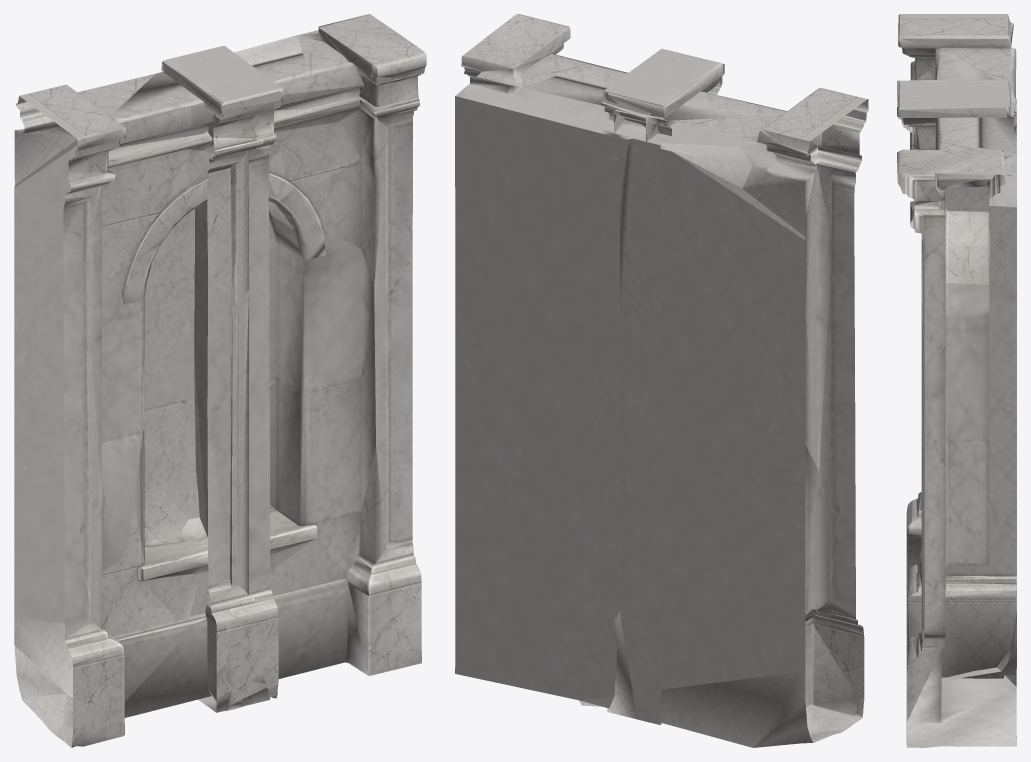
Rendered from marble-wall.glb.
The picture shows the model from 3 angles, left to right: view 1: azimuth 30°, elevation 25°; view 2: azimuth 150°, elevation 25°; view 3: azimuth 270°, elevation 25°; orthographic projection. The views are drawn at different scales.
Parts seen in each view (by area): view 1: mid, left, right; view 2: mid, right, left; view 3: mid, right, left.
Boxes of the visible parts, <box> form: mid: <box>14,14,426,747</box>; left: <box>162,45,283,711</box>; right: <box>161,60,280,712</box>; mid: <box>455,14,868,747</box>; right: <box>605,63,724,724</box>; left: <box>599,48,723,648</box>; mid: <box>897,14,1016,747</box>; right: <box>897,79,1016,678</box>; left: <box>898,81,1016,681</box>.
Bounding box in the file's own units: 0.8087 × 1.36 × 0.2572.
Materials: 1 (1 with a texture image).
